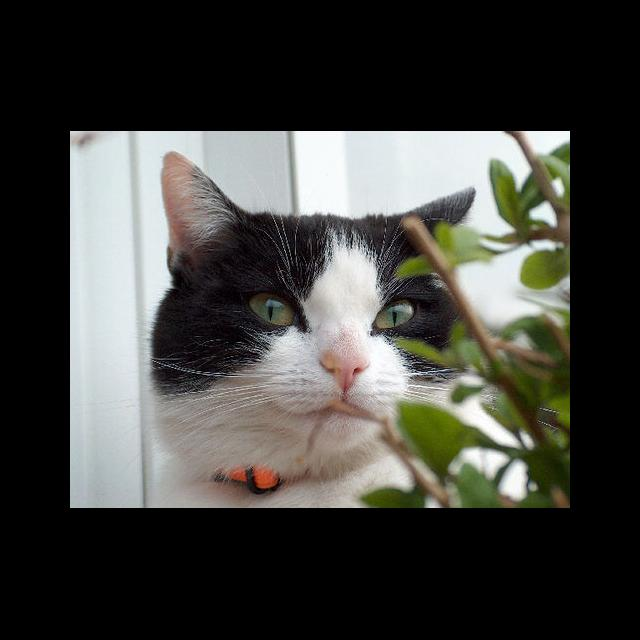animals: (170, 152, 473, 388)
